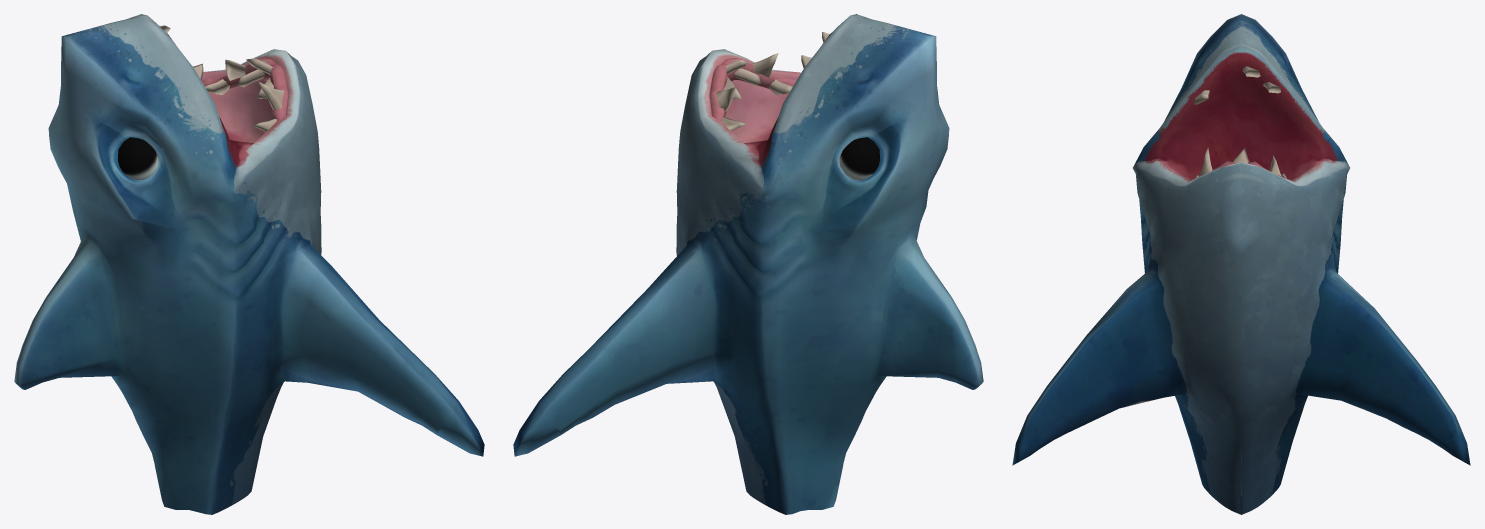
Rendered from Waves Beyond_shark.fbx.
The picture shows the model from 3 angles, left to right: view 1: azimuth 30°, elevation 25°; view 2: azimuth 150°, elevation 25°; view 3: azimuth 270°, elevation 25°; orthographic projection. The views are drawn at different scales.
Parts seen in each view (by area): view 1: Shark_Low001_Material #2_0; view 2: Shark_Low001_Material #2_0; view 3: Shark_Low001_Material #2_0.
Part boxes in pixels (x1=…): Shark_Low001_Material #2_0: x1=14, y1=14, x2=484, y2=514; Shark_Low001_Material #2_0: x1=513, y1=14, x2=983, y2=514; Shark_Low001_Material #2_0: x1=1012, y1=14, x2=1470, y2=514.
Size of the model in its own units: 2.51 by 3.52 by 3.43.
1 material, 1 textured.
